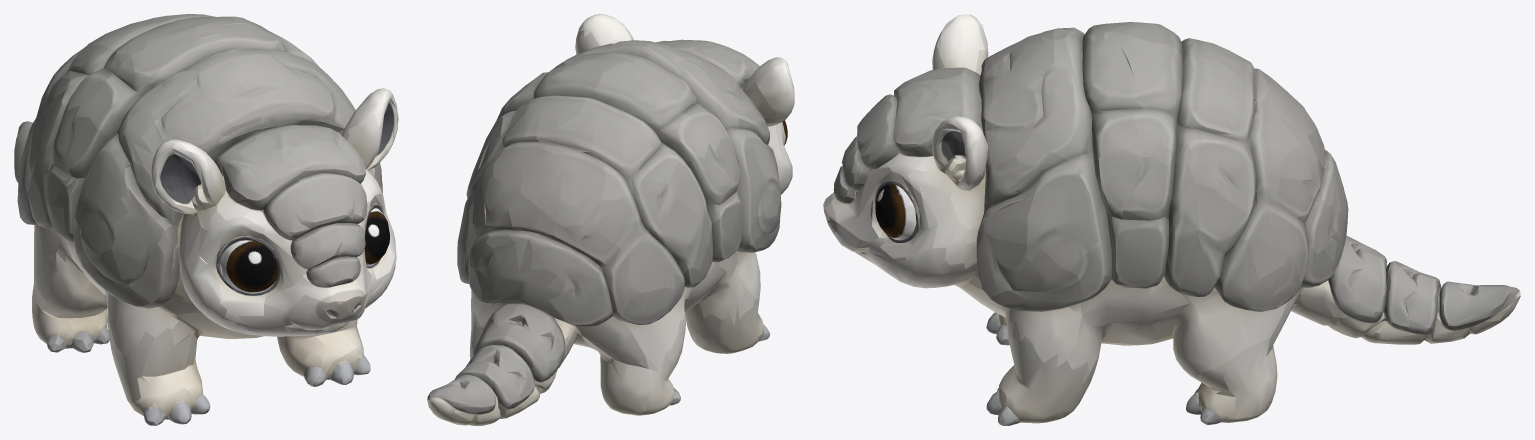
The picture shows the model from 3 angles, left to right: view 1: azimuth 30°, elevation 25°; view 2: azimuth 150°, elevation 25°; view 3: azimuth 270°, elevation 25°; orthographic projection. The views are drawn at different scales.
Bounding box in the file's own units: 0.9087 × 1.01 × 1.9.
Materials: 1 (1 with a texture image).
